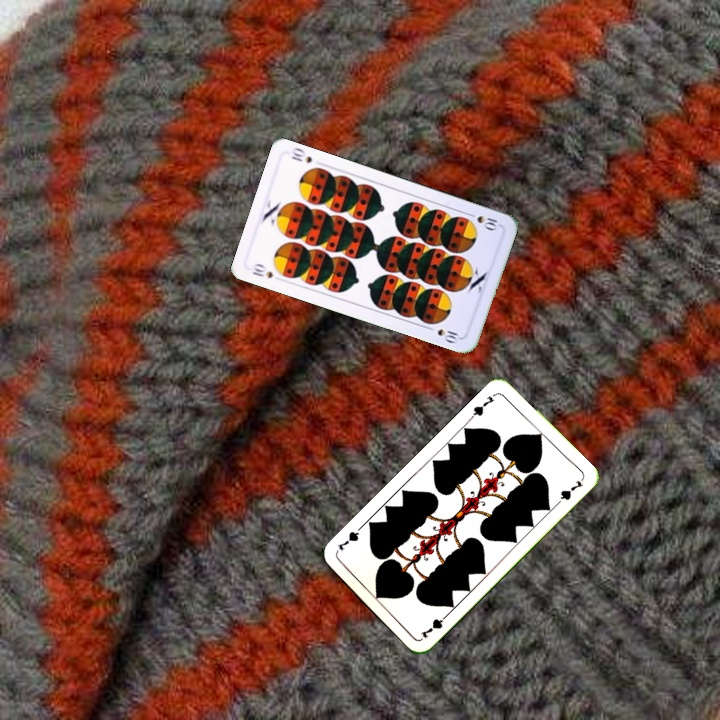G7: (417, 609, 452, 641), (467, 391, 498, 422)
S10: (463, 209, 502, 233), (248, 260, 275, 281)
